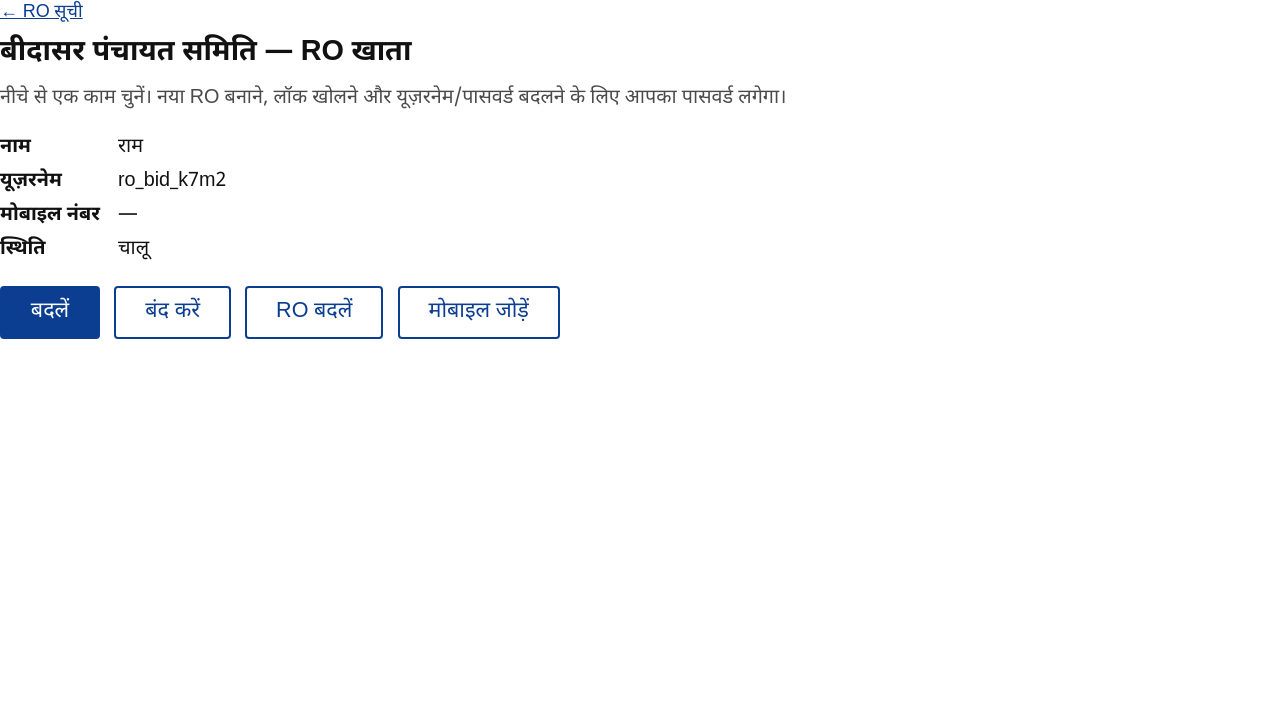
Test case: बदलें: one form for username and password › "अपने आप बनाएं" fills a generated password; "देखें" asks "are you sure?" (no password) and fills the current one
Click the button "बदलें". click: (50,313)
box: [0,286,100,339]
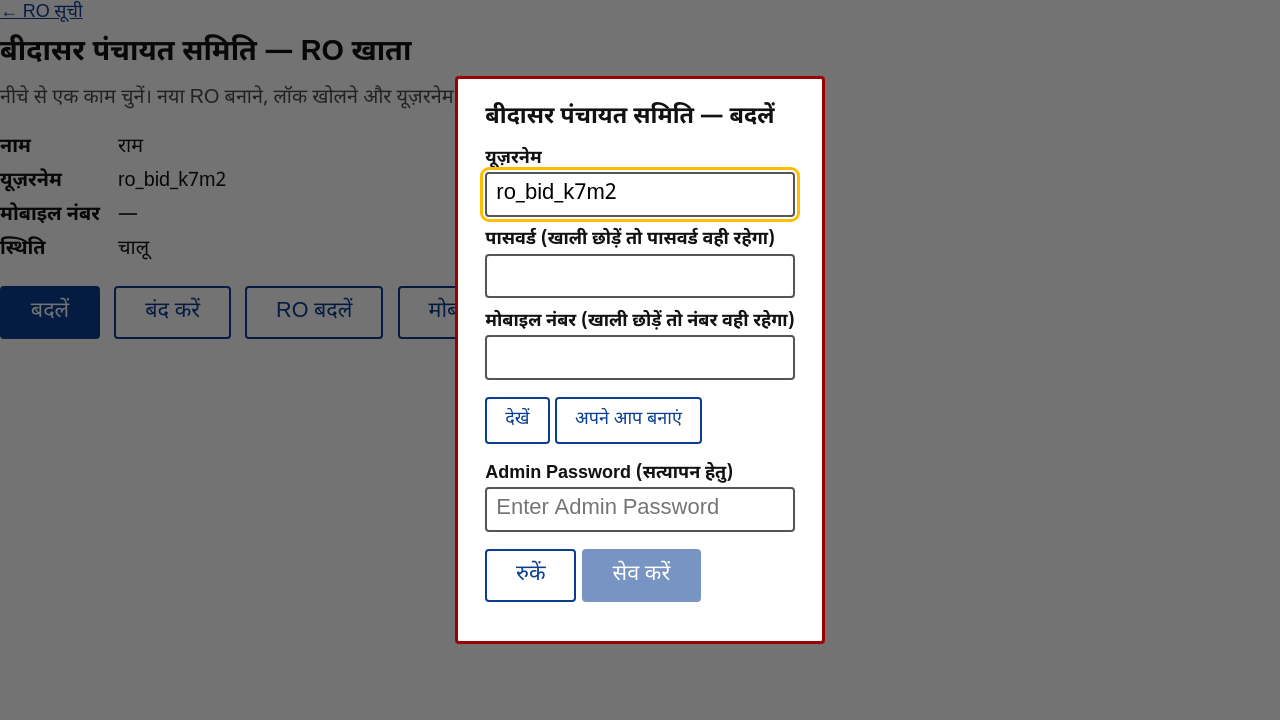
Click the button "अपने आप बनाएं". click: (628,420)
box: [555,397,702,444]
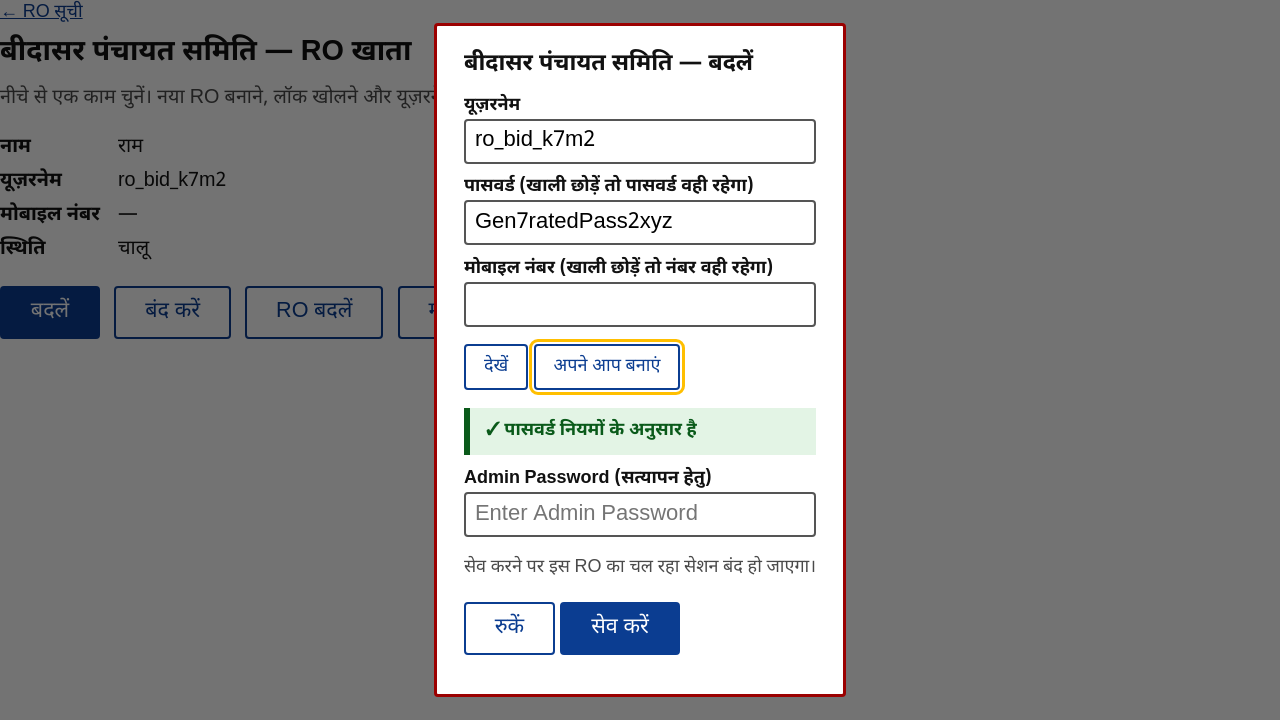
Check: the field labelled "पासवर्ड (खाली छोड़ें तो पासवर्ड वही रहेगा)" holds "Gen7ratedPass2xyz", box [464,200,816,245]
Click the button "देखें". click: (496,367)
box: [464,344,528,390]
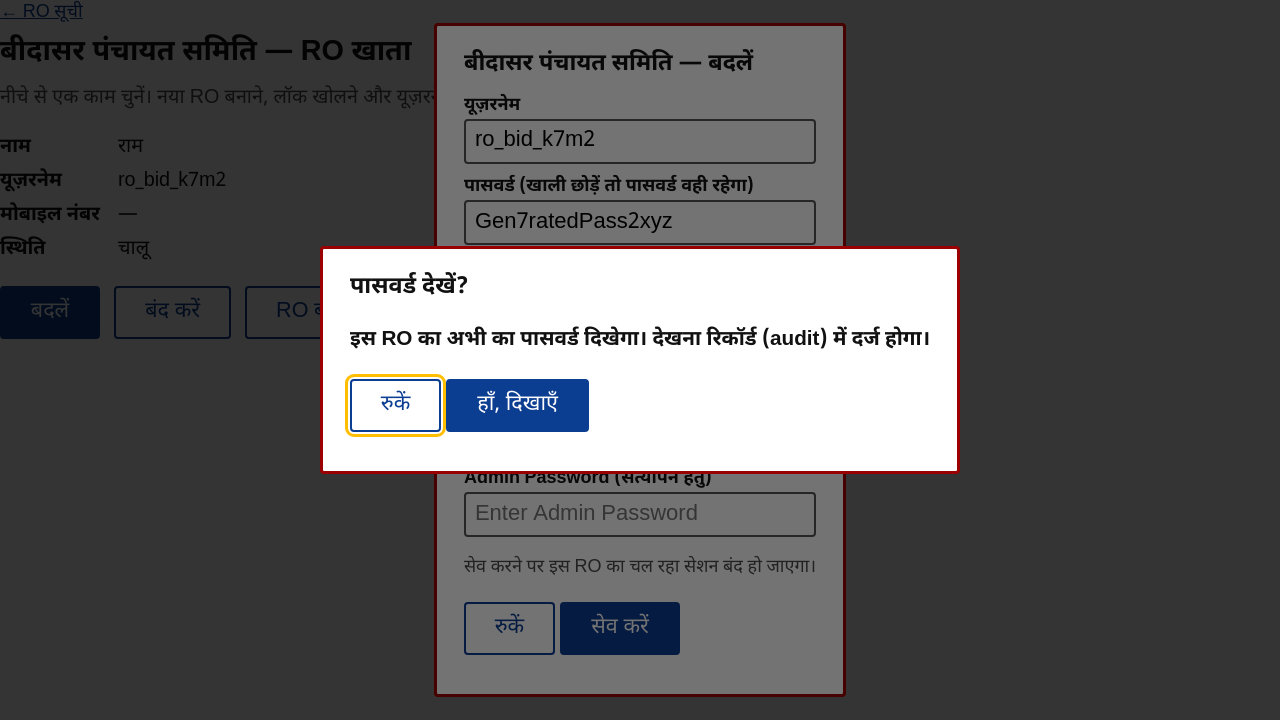
Click the button "रुकें". click: (396,405)
box: [350,379,441,432]
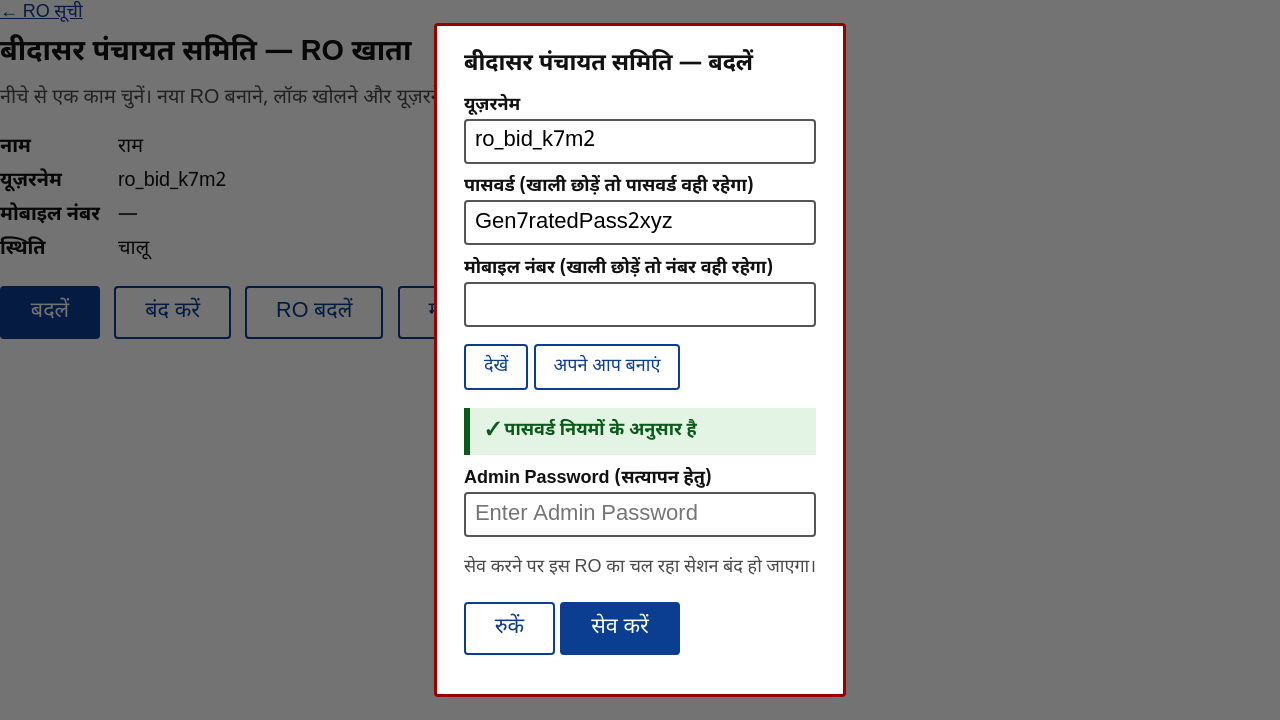
Check: the heading "पासवर्ड देखें?" is gone
Click the button "देखें". click: (496,367)
box: [464,344,528,390]
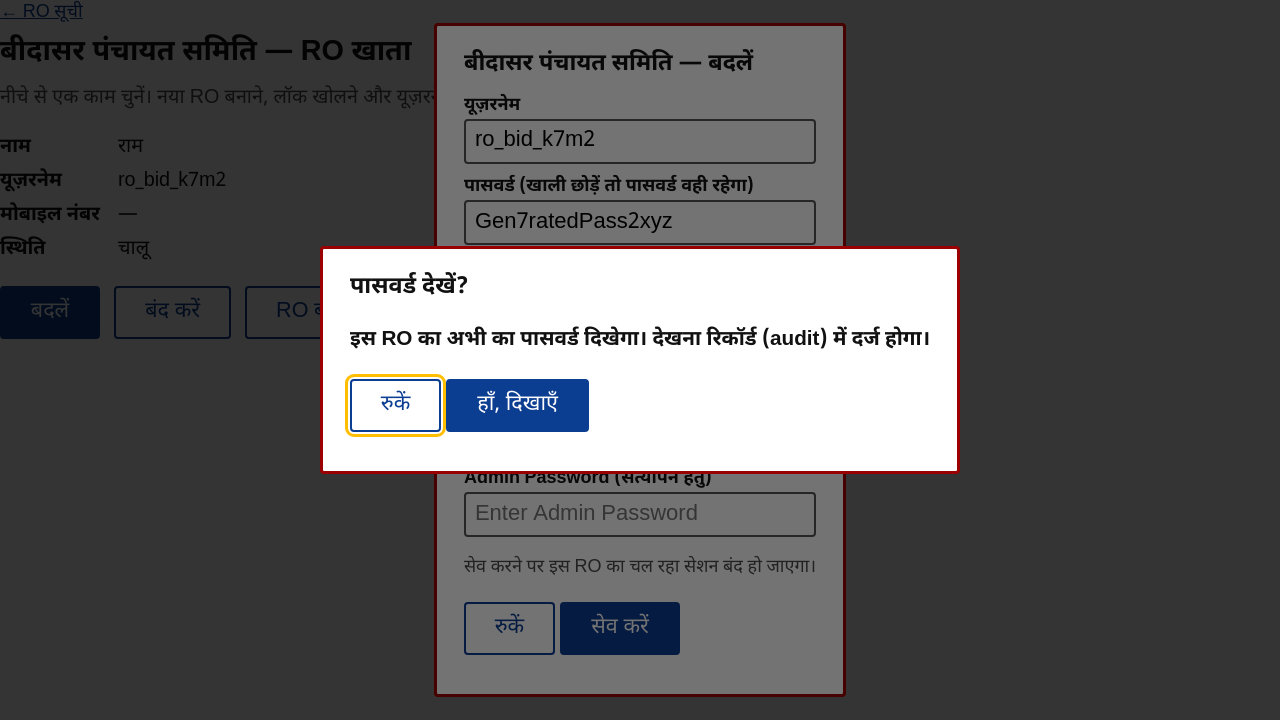
Click the button "हाँ, दिखाएँ". click: (518,405)
box: [446,379,589,432]
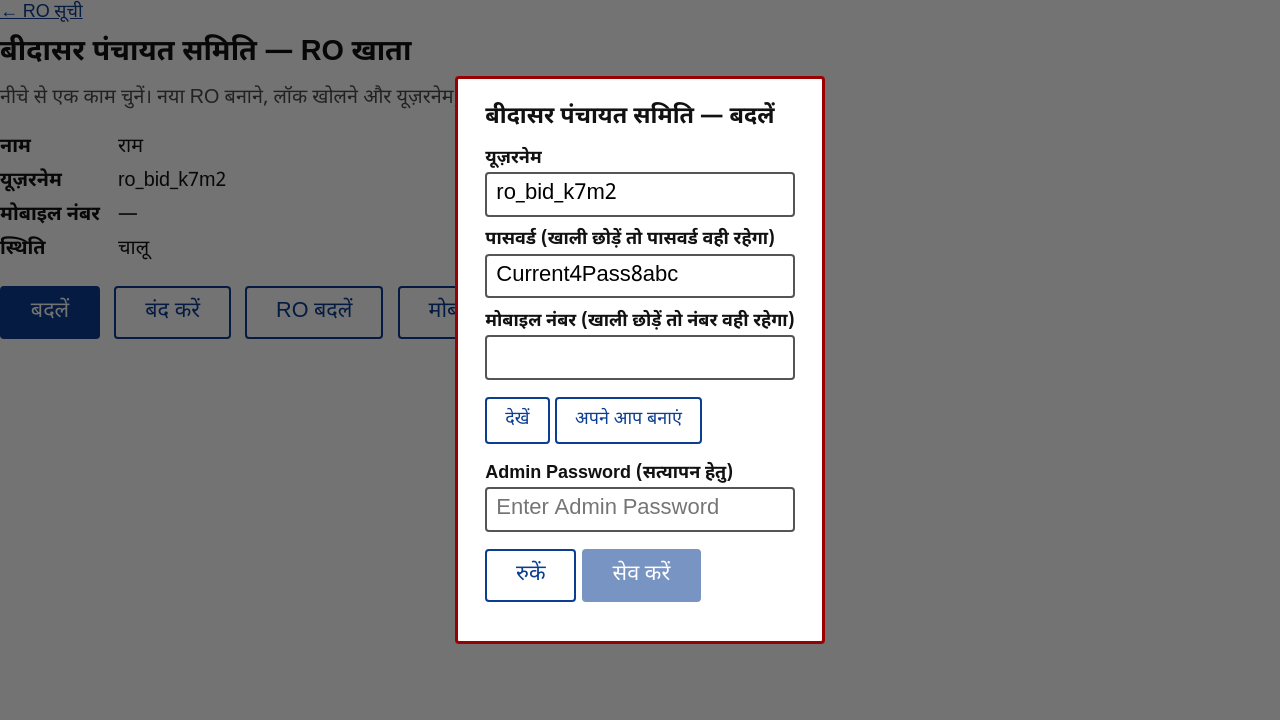
Check: the field labelled "पासवर्ड (खाली छोड़ें तो पासवर्ड वही रहेगा)" holds "Current4Pass8abc", box [485,254,795,298]
Check: the heading "पासवर्ड देखें?" is gone
Check: the button "सेव करें" is disabled, box [582,549,701,602]
